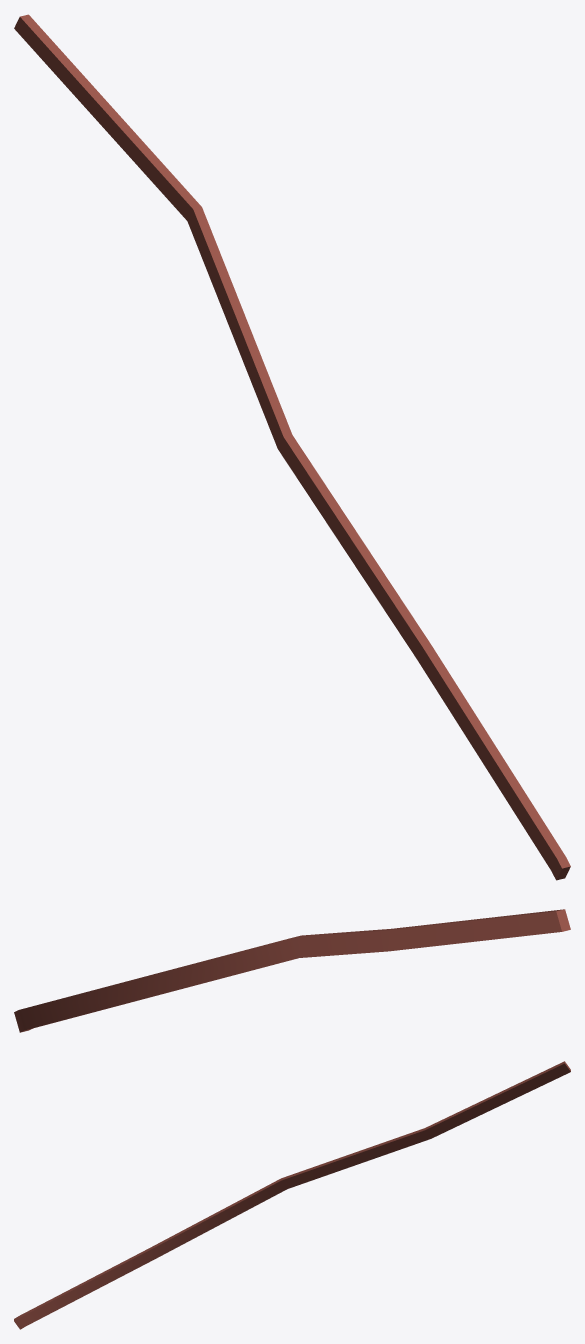
File: Rope1.fbx
The picture shows the model from 3 angles, top to bottom: view 1: azimuth 30°, elevation 25°; view 2: azimuth 210°, elevation 25°; view 3: azimuth 270°, elevation 25°; orthographic projection. The views are drawn at different scales.
Parts seen in each view (by area): view 1: Rope1; view 2: Rope1; view 3: Rope1.
Boxes of the visible parts, left/top/right/bottom form: Rope1: left=14, top=14, right=570, bottom=880; Rope1: left=14, top=909, right=570, bottom=1032; Rope1: left=14, top=1061, right=570, bottom=1329.
Size of the model in its own units: 0.3949 by 3.42 by 6.63.
